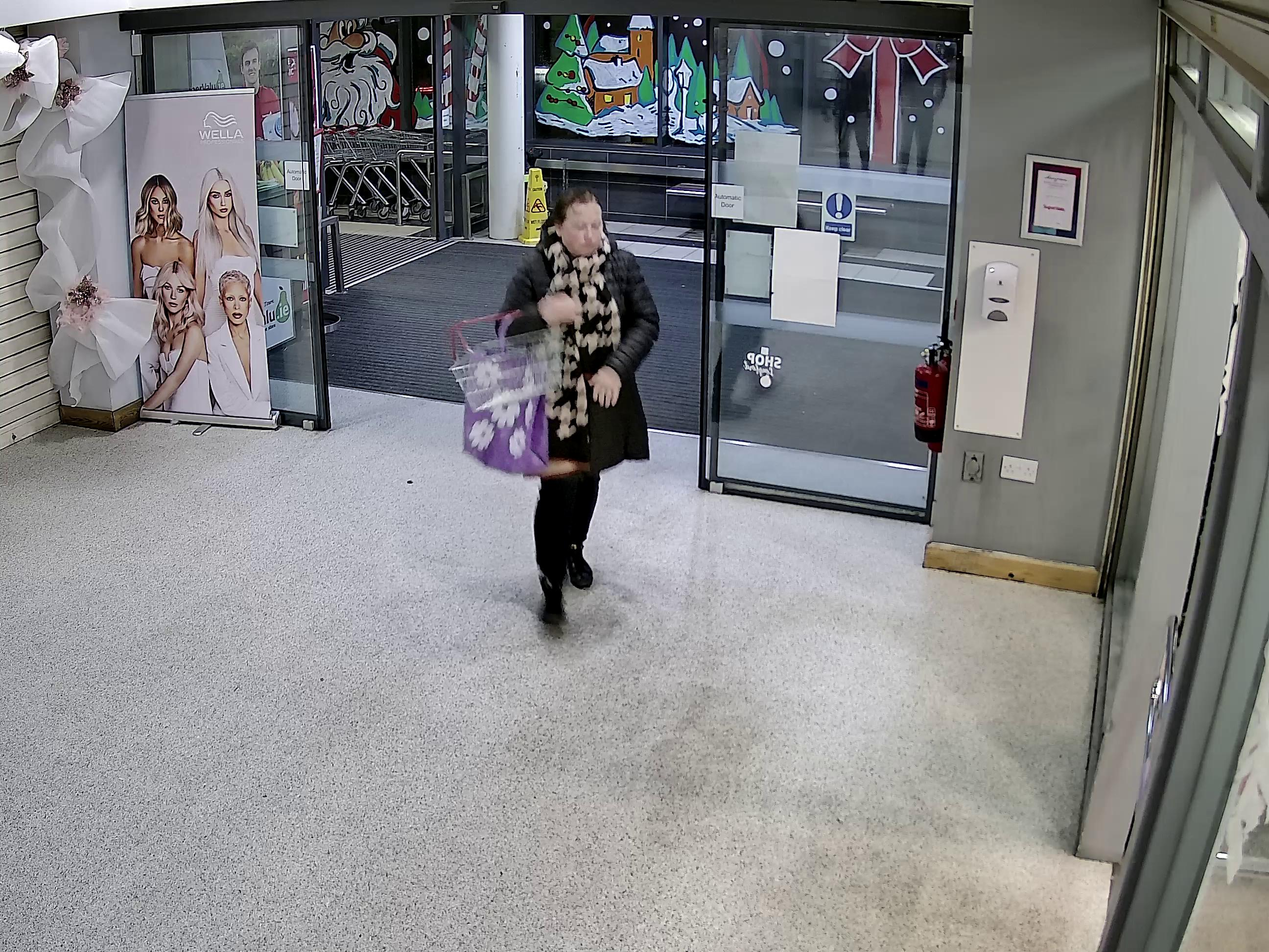empty-basket: (450, 311, 564, 413)
empty-shopping-bags: (463, 360, 554, 476)
person: (496, 187, 660, 626)
person-with-basket-trolly-and-shopping-bag: (451, 186, 661, 626)
